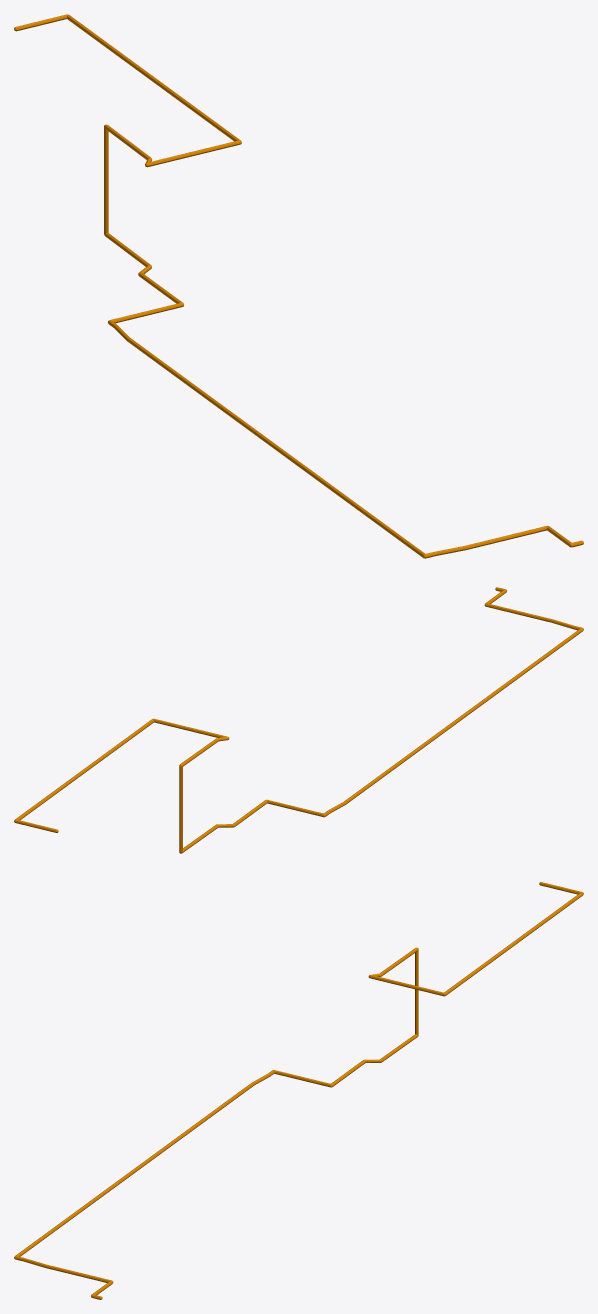
3 views of the same model, one above another, from view 1: azimuth 30°, elevation 25°; view 2: azimuth 150°, elevation 25°; view 3: azimuth 330°, elevation 25° (orthographic). The views are drawn at different scales.
Bounding box in the file's own units: 871 × 520 × 4720.
